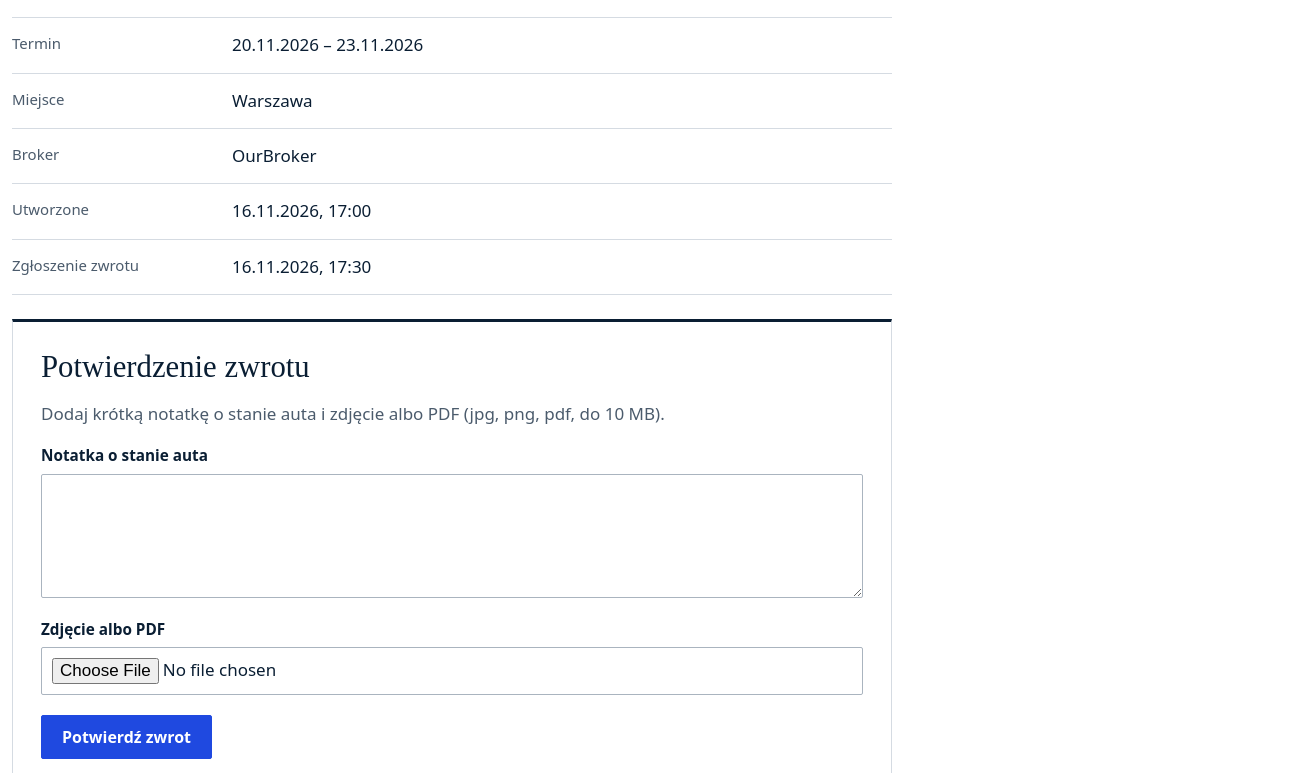
Test: Panel pracownika › szczegóły: za mała notatka i brak pliku blokują wysyłkę
(page scrolled)
Step 1. Type "ok" into the text box labelled "Notatka o stanie auta" → (452, 536), box [41,474,863,598]
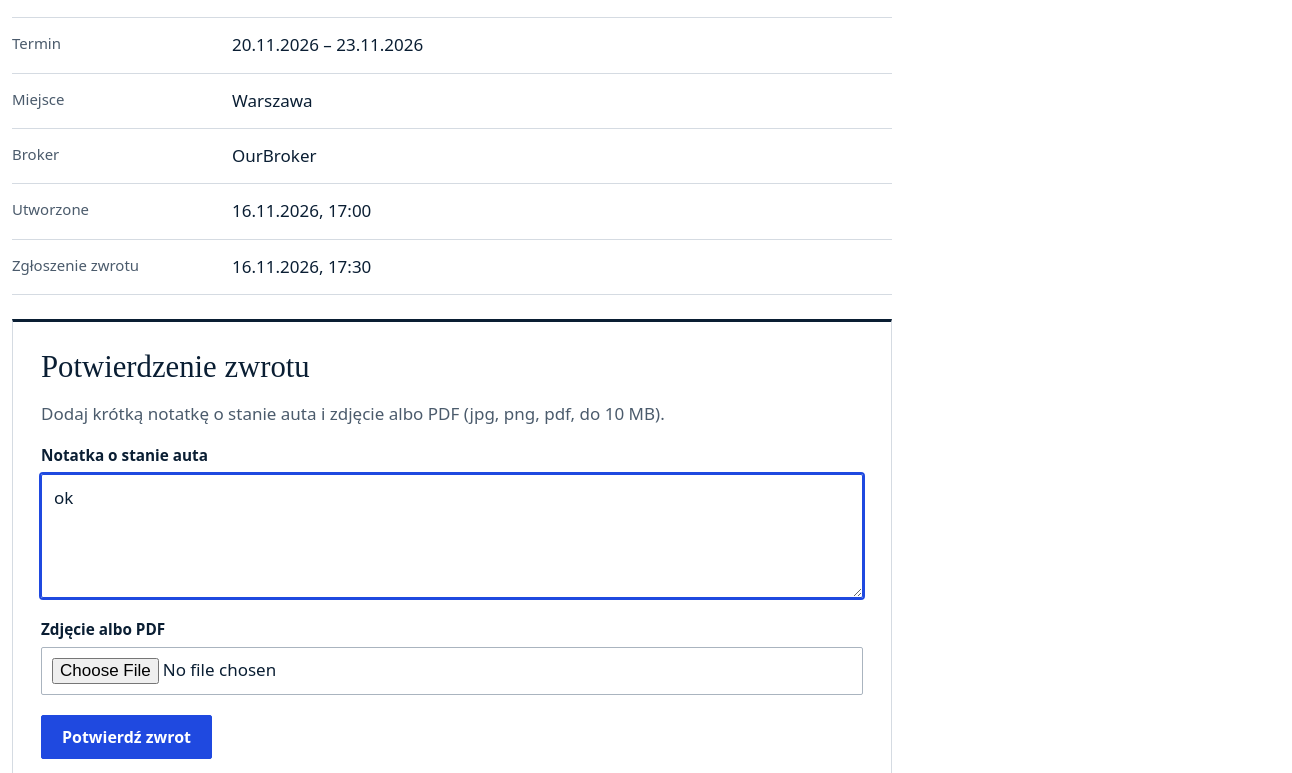
Step 2. Click the button "Potwierdź zwrot" → (126, 737), box [41,715,212,759]
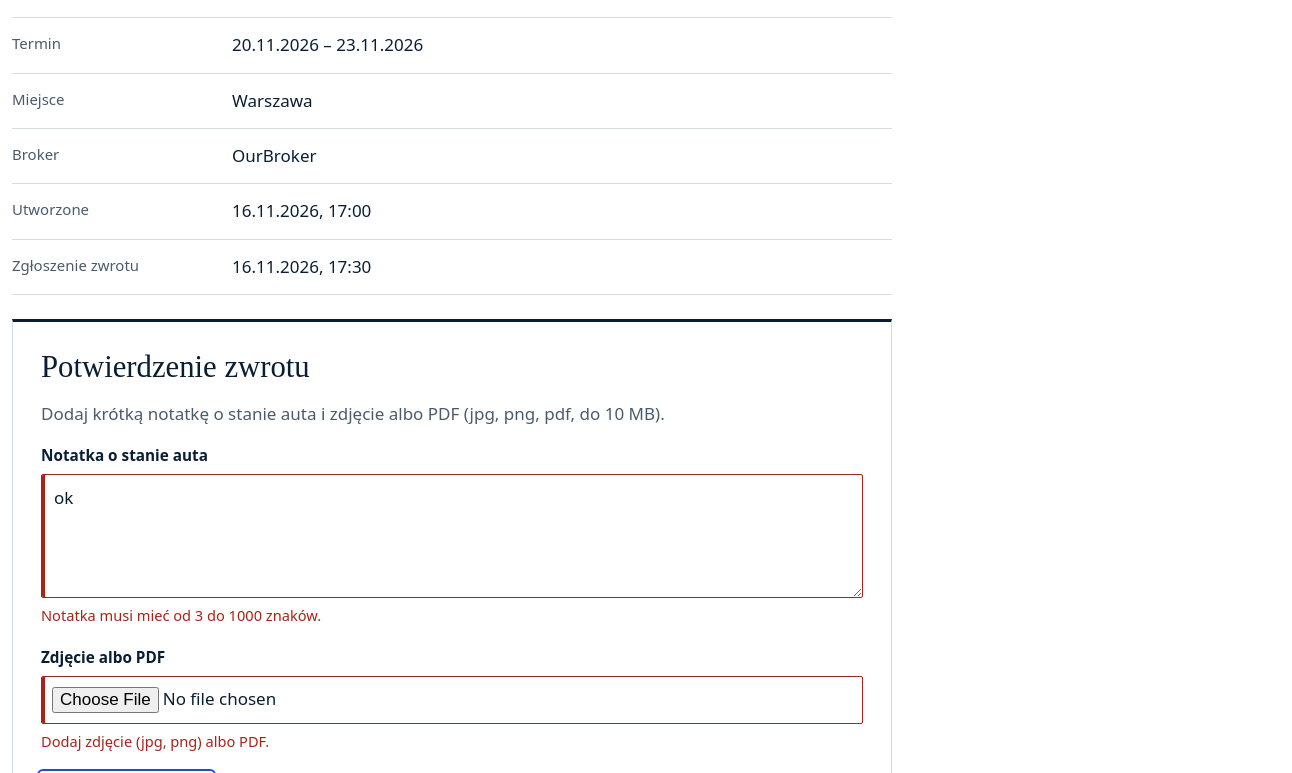
Expected: the text "Notatka musi mieć od 3 do 1000 znaków." is shown, [41,605,321,625]
Expected: the text "Dodaj zdjęcie (jpg, png) albo PDF." is shown, [41,731,269,751]
